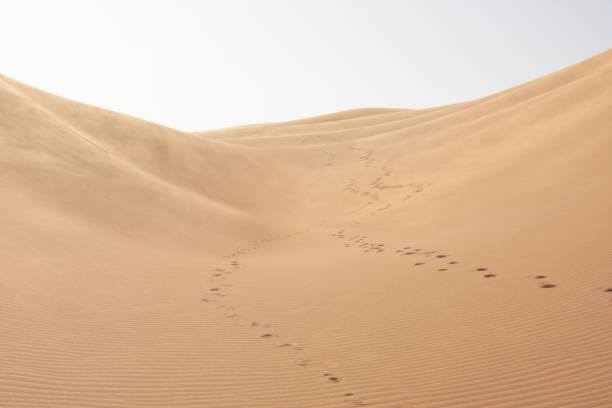human_footprint: (258, 331, 312, 366)
